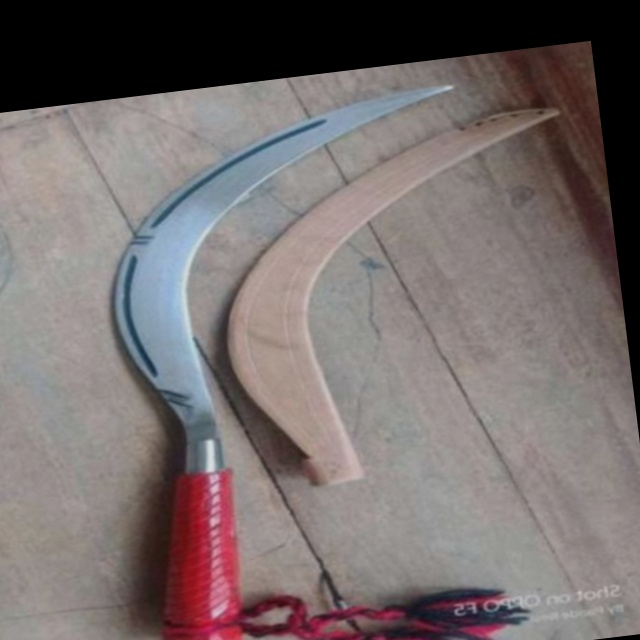Sharp-Object: (70, 78, 523, 640)
